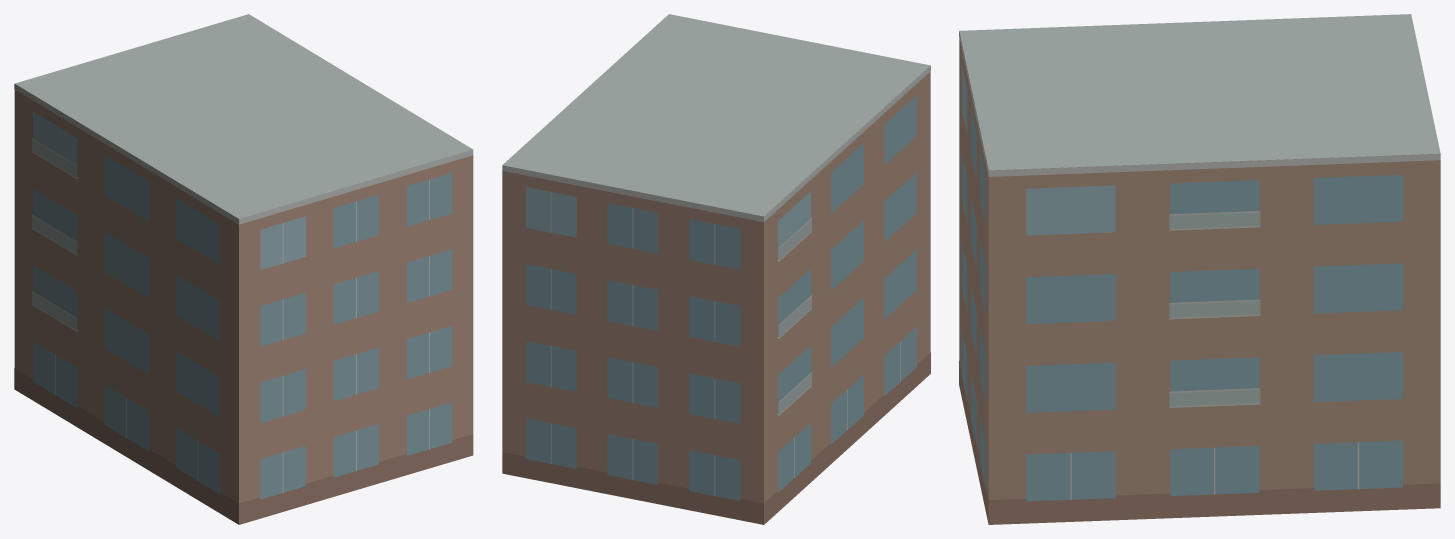
The model's file is survey-upis-32697172.glb.
3 renders of one model, left to right at view 1: azimuth 30°, elevation 25°; view 2: azimuth 150°, elevation 25°; view 3: azimuth 270°, elevation 25°, orthographic. The views are drawn at different scales.
Parts seen in each view (by area): view 1: survey-upis-32697172.tmp; view 2: survey-upis-32697172.tmp; view 3: survey-upis-32697172.tmp.
Boxes of the visible parts, x1,y1,x2,y2 form: survey-upis-32697172.tmp: (14, 14, 473, 524); survey-upis-32697172.tmp: (502, 14, 930, 524); survey-upis-32697172.tmp: (959, 14, 1440, 524).
Size of the model in its own units: 12.5 by 13.2 by 16.26.
